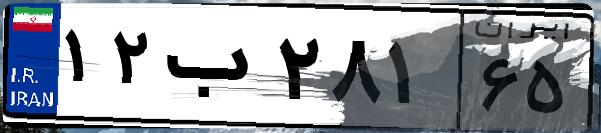1: (385, 28, 445, 110), (57, 26, 110, 100)
2: (270, 28, 330, 110), (110, 28, 158, 98)
5: (525, 38, 570, 115)
6: (475, 38, 525, 113)
8: (330, 28, 385, 110)
ب: (158, 20, 270, 120)
